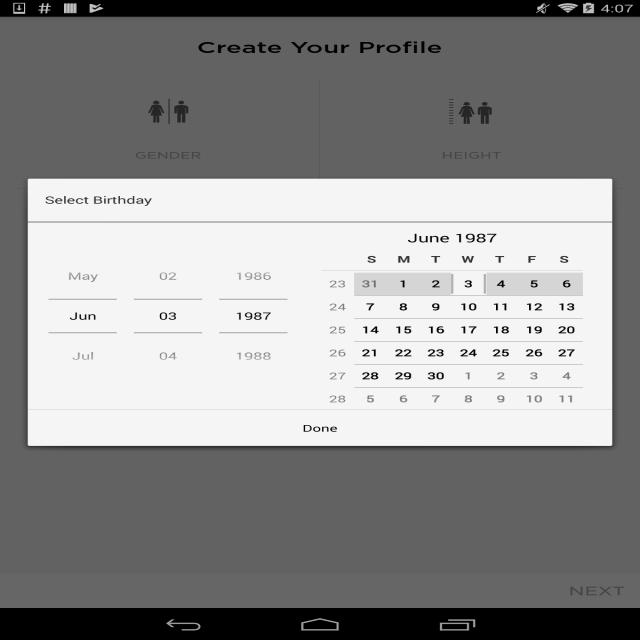Button: (28, 410, 612, 446), (48, 256, 117, 300), (48, 332, 117, 376), (219, 256, 288, 300), (219, 332, 288, 376), (134, 256, 202, 300), (134, 332, 202, 376)
EditText: (48, 300, 117, 332), (219, 300, 288, 332), (134, 300, 202, 332)
ImageView: (322, 270, 583, 271)
TextView: (45, 193, 595, 207), (408, 223, 497, 252), (324, 252, 356, 266), (419, 253, 452, 265), (548, 253, 581, 265), (356, 253, 388, 265), (388, 253, 420, 265), (452, 253, 484, 265), (484, 253, 516, 265), (516, 253, 548, 265)
